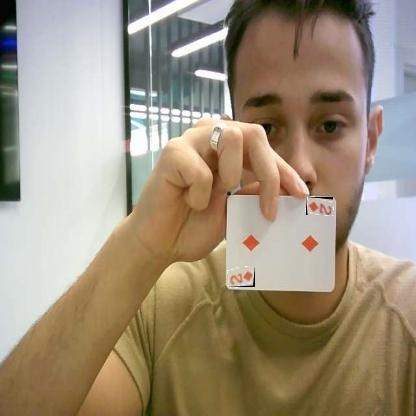2D: (228, 267, 255, 287), (306, 197, 333, 215)
